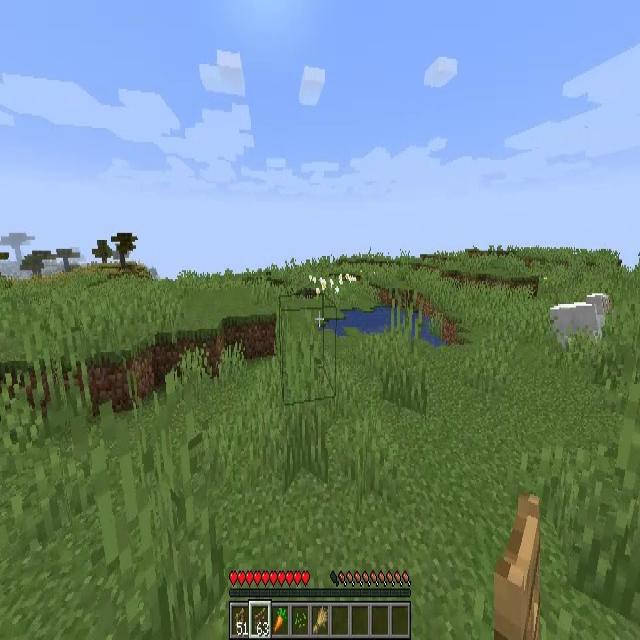sheep: (550, 293, 612, 353)
